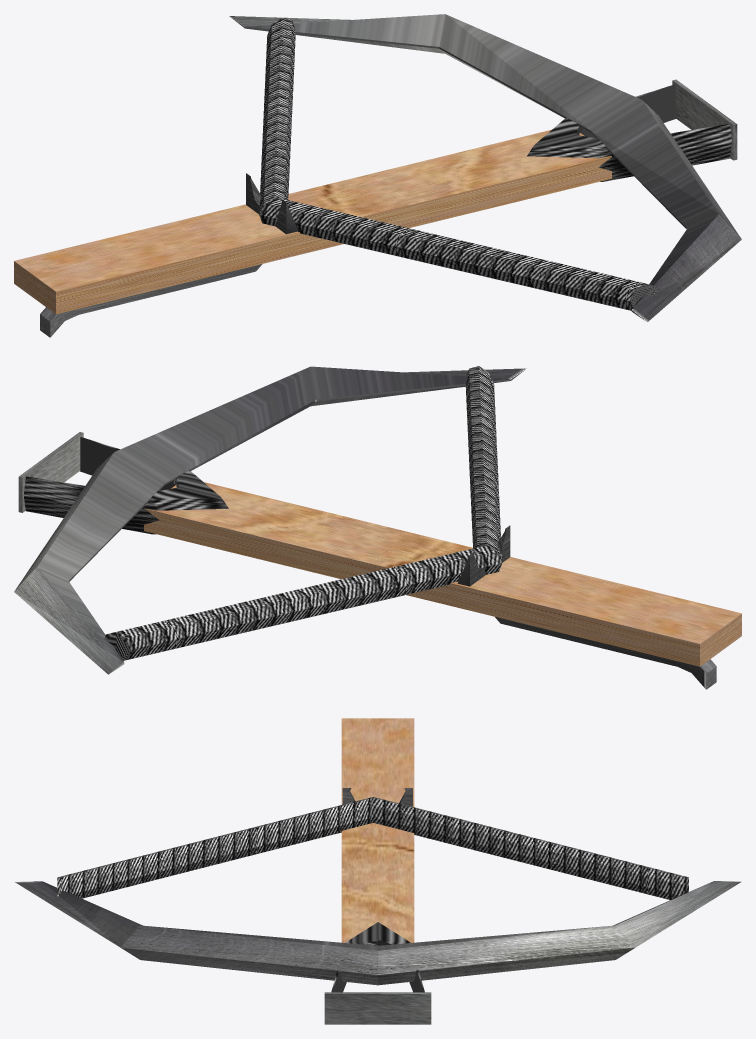
The model's file is Crossbow21.obj.
3 renders of one model, top to bottom at view 1: azimuth 30°, elevation 25°; view 2: azimuth 150°, elevation 25°; view 3: azimuth 270°, elevation 25°, orthographic. The views are drawn at different scales.
Parts seen in each view (by area): view 1: Sphere.002, Sphere.001, Sphere; view 2: Sphere.002, Sphere.001, Sphere; view 3: Sphere.001, Sphere, Sphere.002.
Part boxes in pixels (<box>): Sphere.002: <box>14,129,611,314</box>; Sphere.001: <box>40,14,741,337</box>; Sphere: <box>259,17,731,310</box>; Sphere.002: <box>144,482,741,666</box>; Sphere.001: <box>14,366,716,689</box>; Sphere: <box>23,366,502,660</box>; Sphere.001: <box>14,788,741,1024</box>; Sphere: <box>57,797,688,992</box>; Sphere.002: <box>341,718,414,942</box>.
Size of the model in its own units: 4.67 by 0.6142 by 5.04.
